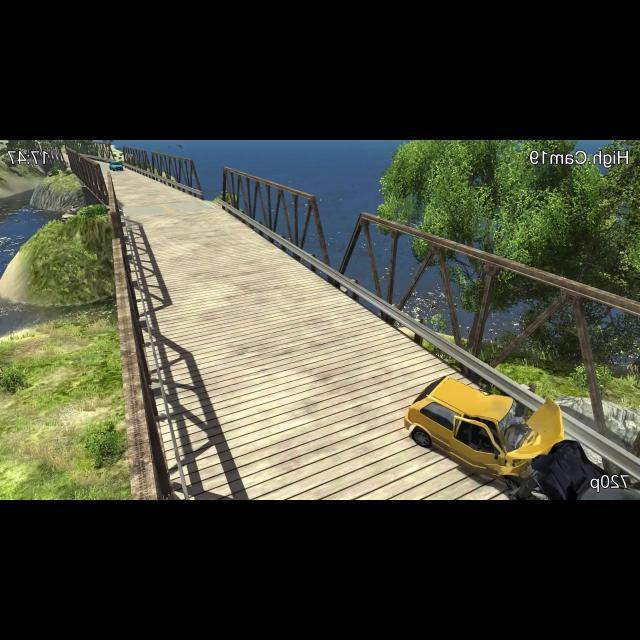severe: (402, 373, 637, 502)
